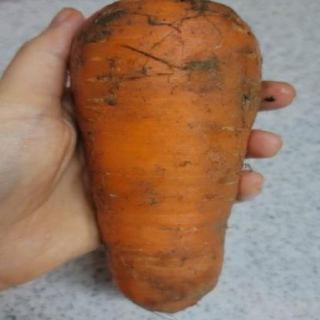carrot: (59, 1, 269, 314)
